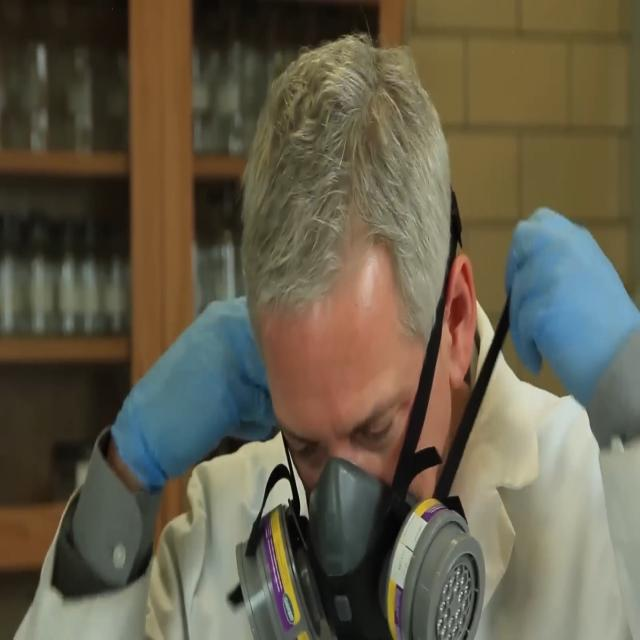labcoat: (9, 288, 640, 639)
